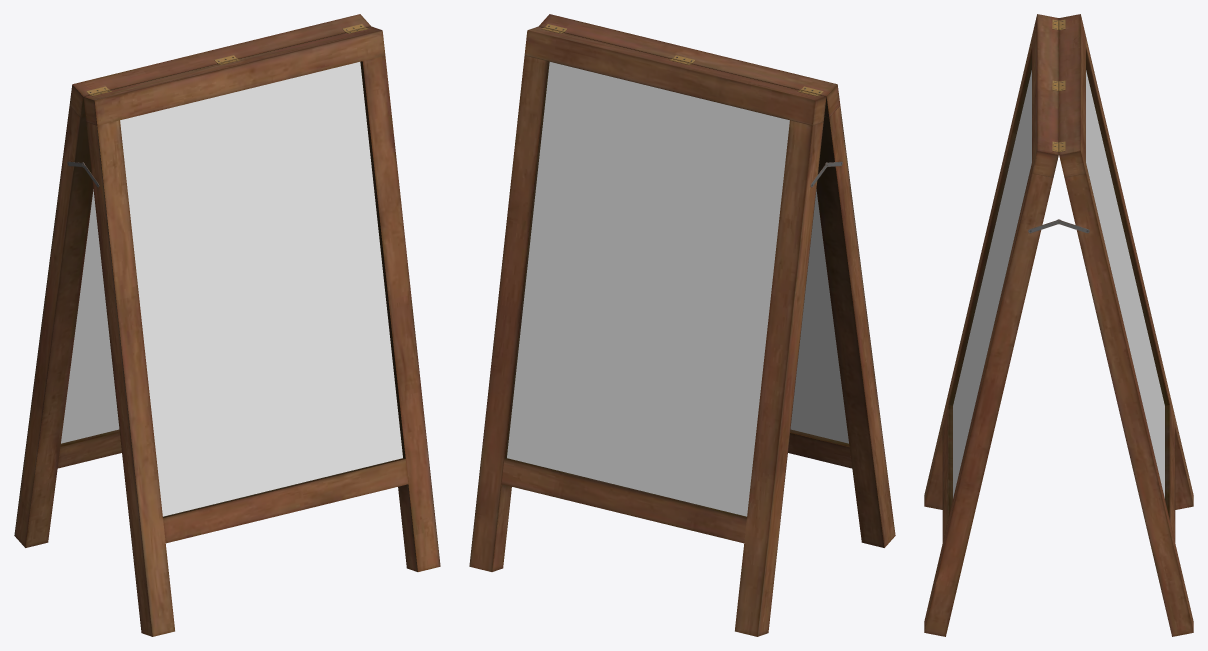
Rendered from chalkboard.glb.
3 renders of one model, left to right at view 1: azimuth 30°, elevation 25°; view 2: azimuth 150°, elevation 25°; view 3: azimuth 270°, elevation 25°, orthographic. The views are drawn at different scales.
Visible parts, largest first — view 1: standing_chalkboard_01; view 2: standing_chalkboard_01; view 3: standing_chalkboard_01.
Part boxes in pixels (<box>): standing_chalkboard_01: <box>14,14,440,636</box>; standing_chalkboard_01: <box>469,14,895,636</box>; standing_chalkboard_01: <box>924,14,1193,636</box>.
Bounding box in the file's own units: 0.9195 × 1.51 × 0.7587.
2 materials, 1 textured.
